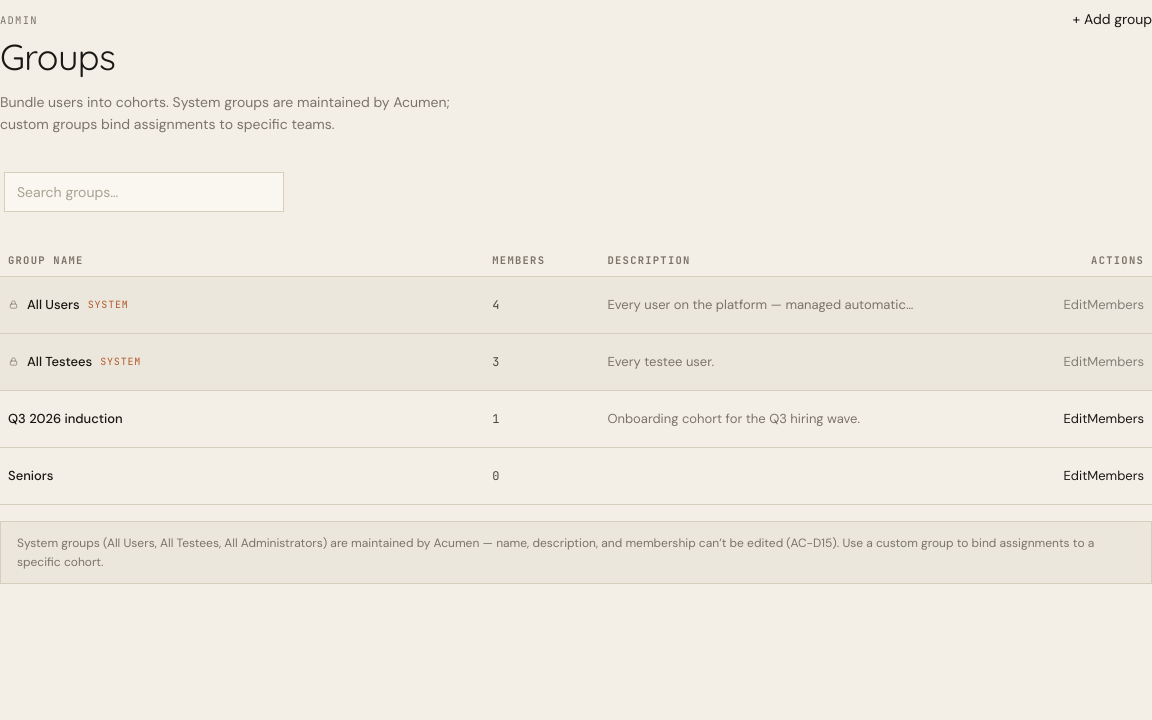
groups list — Add group flow › zod blocks empty name
Click the button with test id "groups-add-button" at (1112, 20), box [1073,0,1151,40]
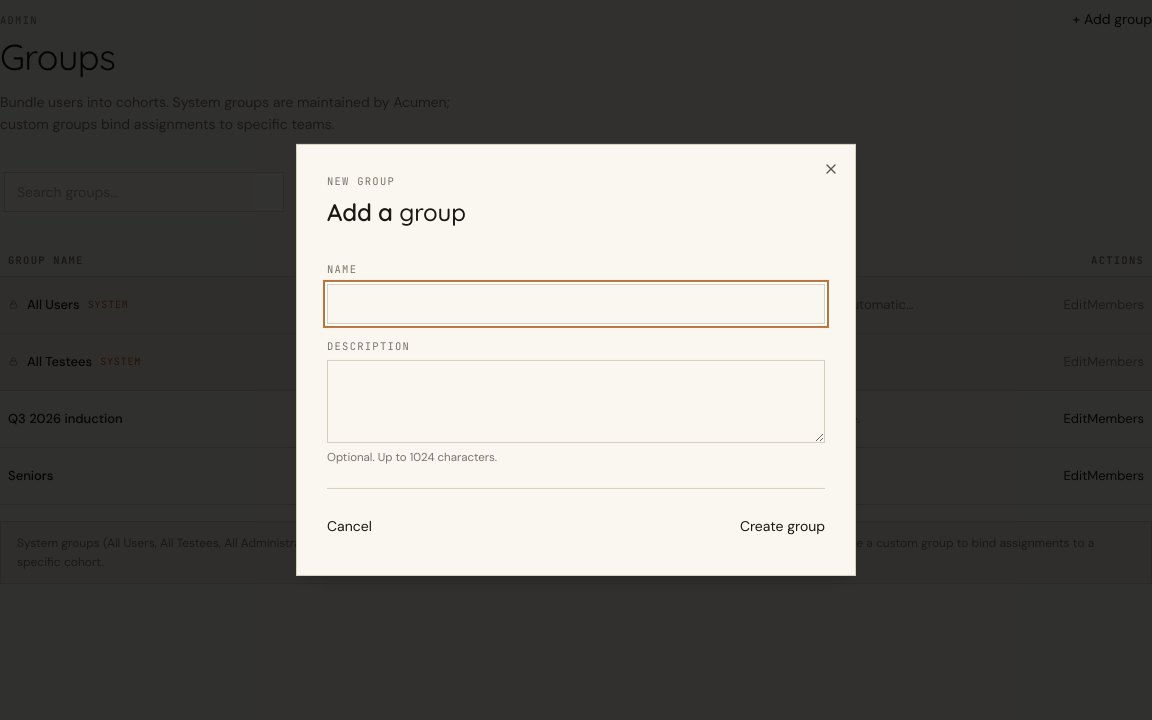
Click the button with test id "group-add-submit" at (782, 527), box [740,507,825,547]
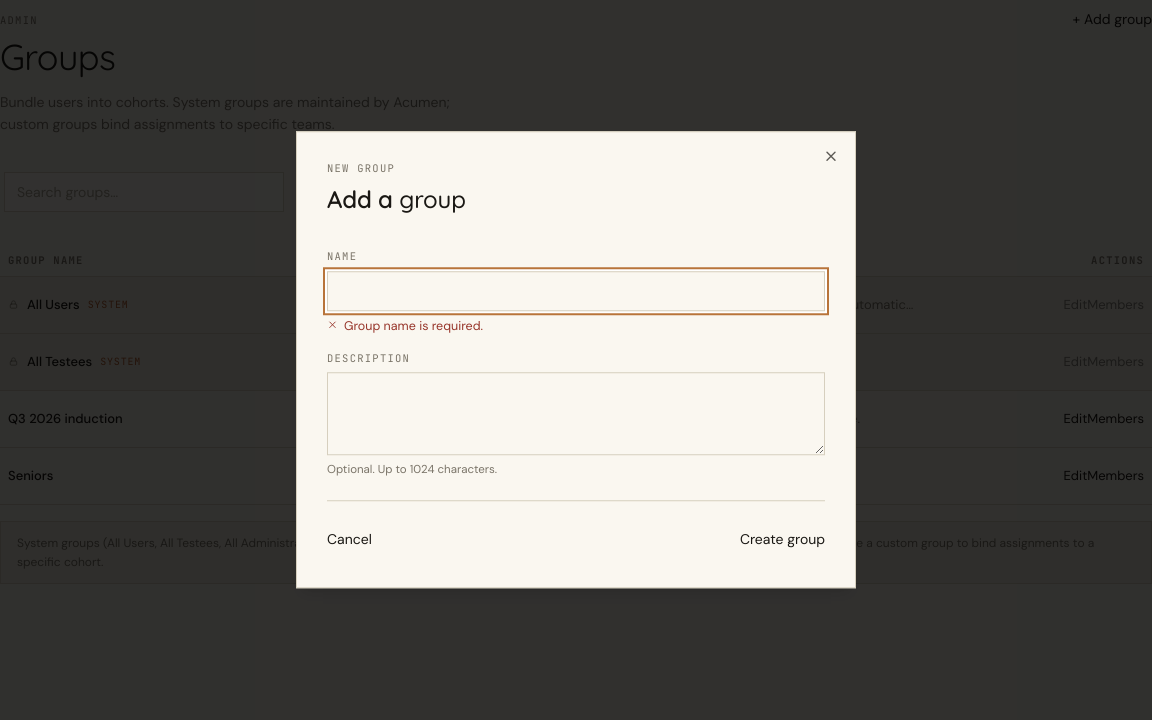
Now the text "Group name is required." is shown, box [344,317,483,336]
